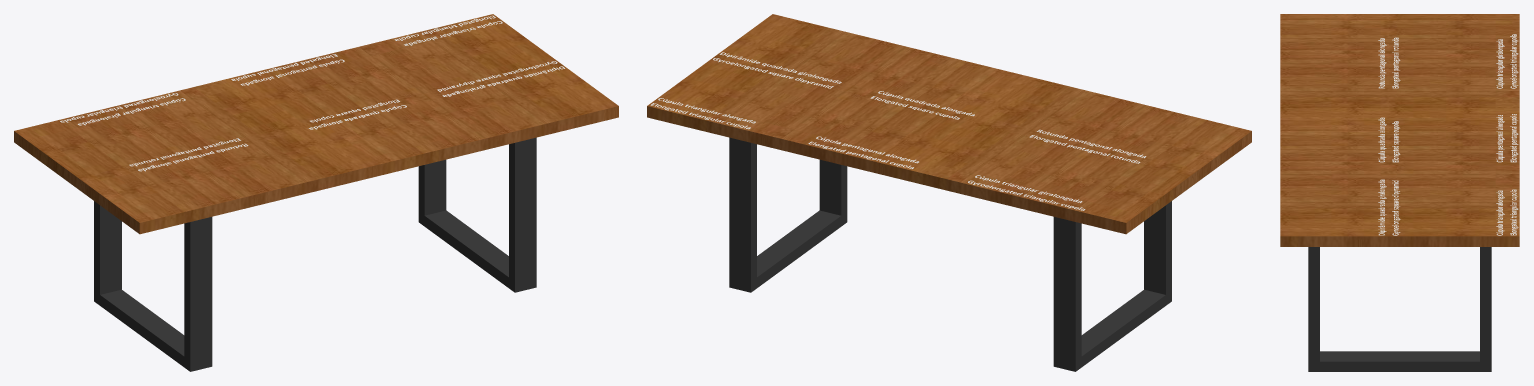
File: johnson1d.glb
The picture shows the model from 3 angles, left to right: view 1: azimuth 30°, elevation 25°; view 2: azimuth 150°, elevation 25°; view 3: azimuth 270°, elevation 25°; orthographic projection. The views are drawn at different scales.
Parts seen in each view (by area): view 1: object 1, Composant#1 (×2), Dipirâmide quadr, Cúpula triangula#1, Rotunda pentagon#1, Cúpula pentagona, Cúpula triangula; view 2: object 1, Composant#1 (×2), Dipirâmide quadr, Rotunda pentagon#1, Cúpula triangula#1, Cúpula pentagona; view 3: object 1, Composant#1, Dipirâmide quadr, Cúpula triangula#1, Rotunda pentagon#1, Cúpula pentagona, Cúpula triangula, Cúpula quadrada.
Boxes of the visible parts, x1=… form: object 1: x1=14, y1=14, x2=618, y2=234; Composant#1 (×2): x1=94, y1=137, x2=536, y2=371; Dipirâmide quadr: x1=437, y1=61, x2=564, y2=96; Cúpula triangula#1: x1=60, y1=93, x2=185, y2=125; Rotunda pentagon#1: x1=129, y1=138, x2=248, y2=171; Cúpula pentagona: x1=231, y1=54, x2=344, y2=85; Cúpula triangula: x1=394, y1=15, x2=502, y2=45; object 1: x1=647, y1=14, x2=1251, y2=234; Composant#1 (×2): x1=729, y1=137, x2=1171, y2=371; Dipirâmide quadr: x1=713, y1=52, x2=841, y2=88; Rotunda pentagon#1: x1=1029, y1=129, x2=1146, y2=163; Cúpula triangula#1: x1=968, y1=175, x2=1085, y2=210; Cúpula pentagona: x1=808, y1=136, x2=918, y2=168; object 1: x1=1280, y1=14, x2=1519, y2=246; Composant#1: x1=1308, y1=247, x2=1491, y2=371; Dipirâmide quadr: x1=1378, y1=179, x2=1400, y2=235; Cúpula triangula#1: x1=1496, y1=34, x2=1518, y2=88; Rotunda pentagon#1: x1=1378, y1=37, x2=1400, y2=88; Cúpula pentagona: x1=1496, y1=114, x2=1518, y2=162; Cúpula triangula: x1=1496, y1=189, x2=1518, y2=235; Cúpula quadrada: x1=1378, y1=117, x2=1400, y2=162.
Size of the model in its own units: 2.2 by 0.771 by 1.
Materials: 3 (1 with a texture image).
